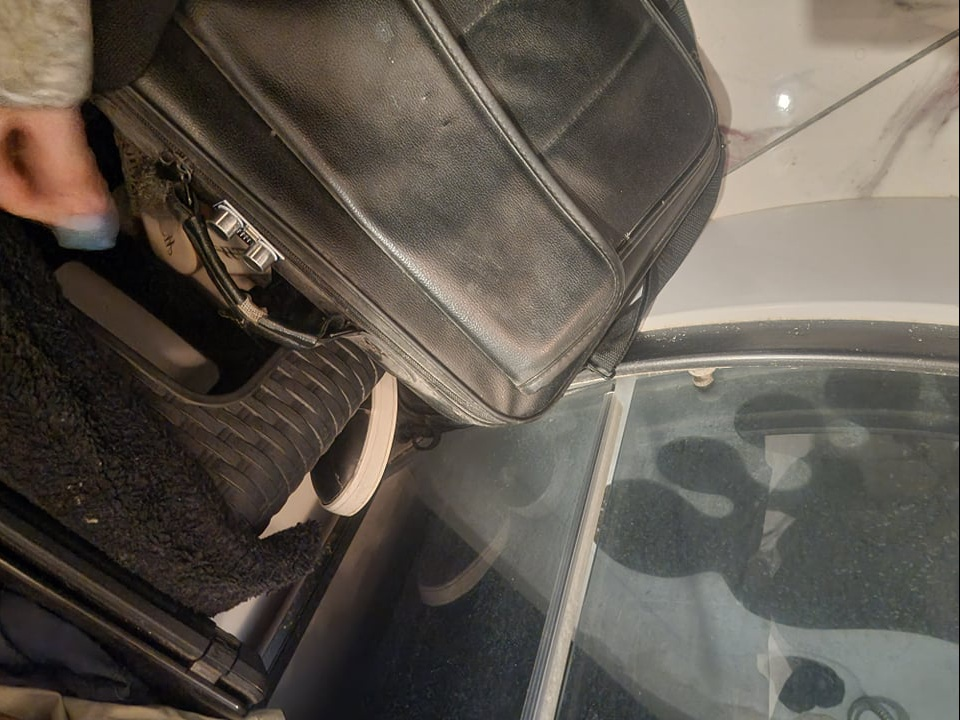SENSOR: (202, 203, 293, 276)
